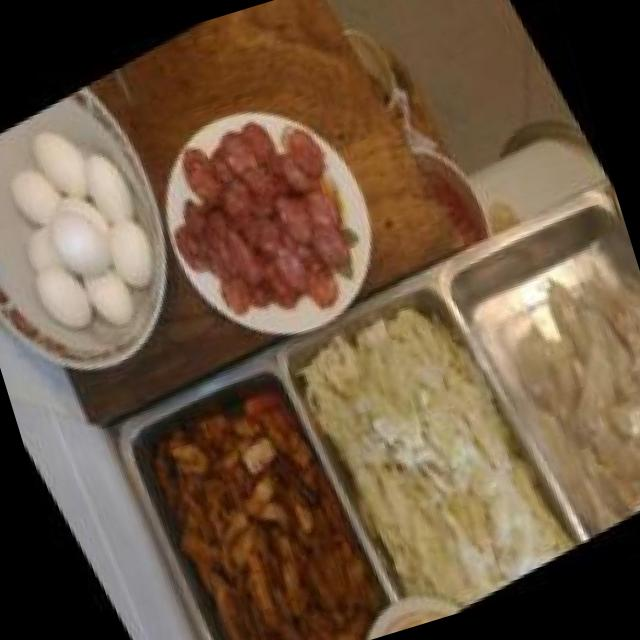chinese_cabbage: (283, 276, 578, 638)
chinese_sausage: (126, 76, 401, 371)
